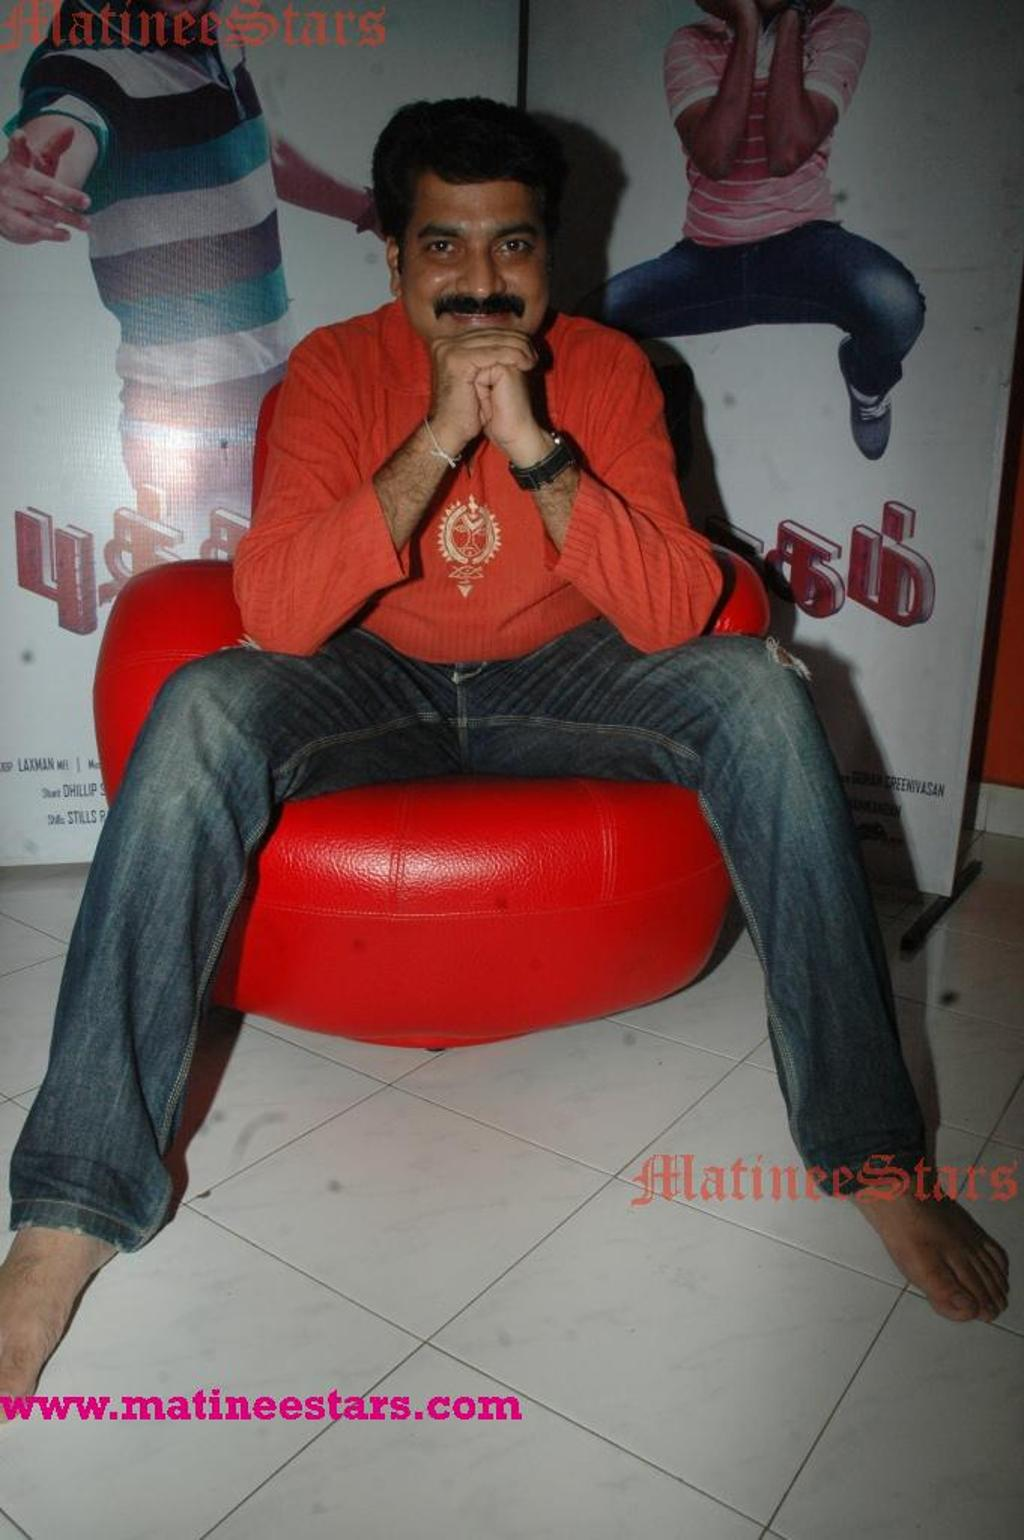face: (414, 168, 543, 354)
